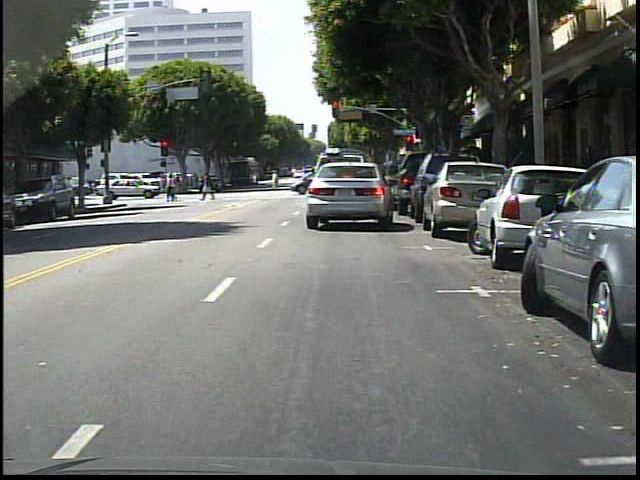person: (202, 171, 217, 201), (165, 174, 180, 202), (271, 170, 279, 191)
